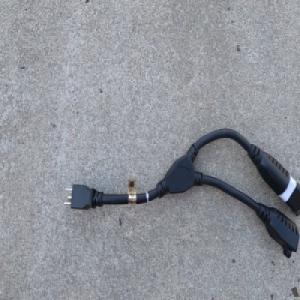Wire: (62, 126, 300, 258)
